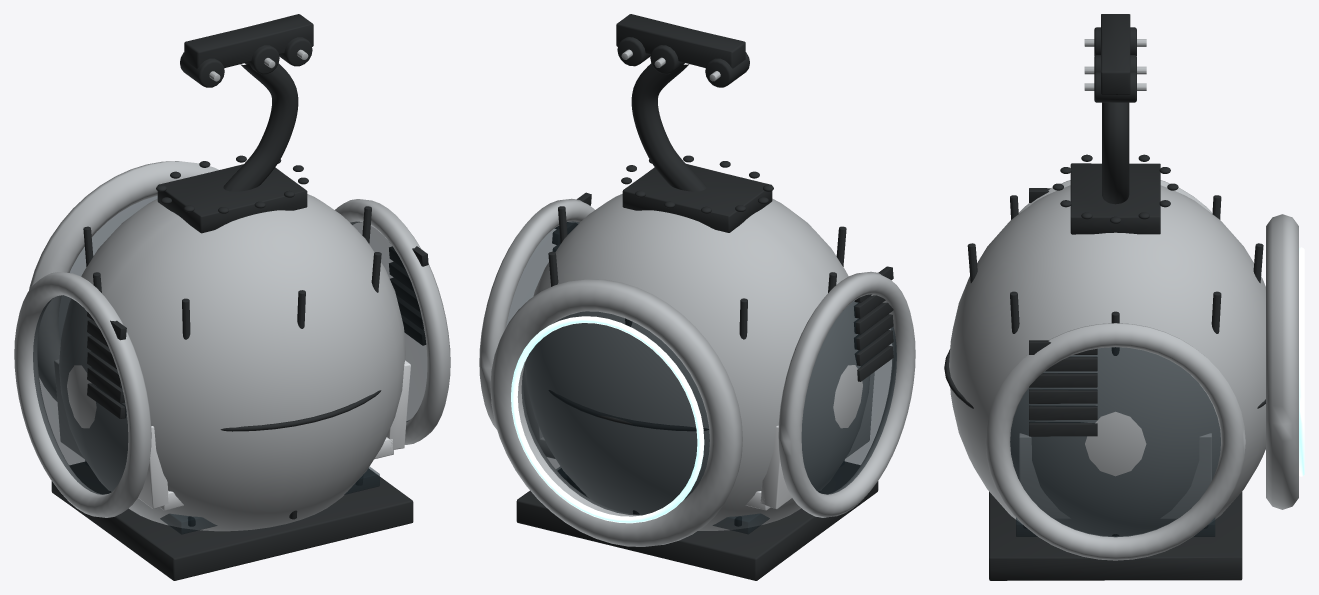
File: singapore-cable-car-skyorb-v1.glb
The picture shows the model from 3 angles, left to right: view 1: azimuth 30°, elevation 25°; view 2: azimuth 150°, elevation 25°; view 3: azimuth 270°, elevation 25°; orthographic projection. The views are drawn at different scales.
Parts seen in each view (by area): view 1: cabin-shell/orb-shell, cabin-shell/lower-skirt, window-system/side-window-ring--1, window-system/side-glazing--1, window-system/front-window-ring, window-system/side-window-ring-1, hanger-grip/roof-plate, hanger-grip/s-curved-hanger, hanger-grip/grip-beam, window-system/side-glazing-1, interior/bench-back--1, window-system/front-glazing (+8 smaller); view 2: cabin-shell/orb-shell, window-system/front-glazing, window-system/front-window-ring, window-system/side-window-ring--1, window-system/side-glazing--1, cabin-shell/lower-skirt, hanger-grip/roof-plate, window-system/side-window-ring-1, window-system/front-led-ring, hanger-grip/s-curved-hanger, hanger-grip/grip-beam, interior/bench-back--1 (+10 smaller); view 3: cabin-shell/orb-shell, window-system/side-glazing-1, window-system/side-window-ring-1, cabin-shell/lower-skirt, window-system/front-window-ring, hanger-grip/roof-plate, hanger-grip/s-curved-hanger, interior/bench-back-1, hanger-grip/grip-beam, window-system/front-led-ring, rib-louvre-system/louvre-1-2, rib-louvre-system/louvre-1-0 (+4 smaller).
Boxes of the visible parts, <box> form: cabin-shell/orb-shell: <box>59,194,405,531</box>; cabin-shell/lower-skirt: <box>51,462,413,580</box>; window-system/side-window-ring--1: <box>14,272,151,517</box>; window-system/side-glazing--1: <box>33,295,128,494</box>; window-system/front-window-ring: <box>29,161,218,400</box>; window-system/side-window-ring-1: <box>335,199,450,444</box>; hanger-grip/roof-plate: <box>157,164,307,233</box>; hanger-grip/s-curved-hanger: <box>223,63,298,191</box>; hanger-grip/grip-beam: <box>184,14,313,68</box>; window-system/side-glazing-1: <box>350,221,427,421</box>; interior/bench-back--1: <box>54,359,168,509</box>; window-system/front-glazing: <box>59,196,157,340</box>; cabin-shell/orb-shell: <box>526,194,869,530</box>; window-system/front-glazing: <box>521,311,709,515</box>; window-system/front-window-ring: <box>490,279,742,546</box>; window-system/side-window-ring--1: <box>778,271,915,517</box>; window-system/side-glazing--1: <box>801,301,896,494</box>; cabin-shell/lower-skirt: <box>516,461,878,580</box>; hanger-grip/roof-plate: <box>622,164,772,232</box>; window-system/side-window-ring-1: <box>479,198,594,429</box>; window-system/front-led-ring: <box>511,316,704,523</box>; hanger-grip/s-curved-hanger: <box>631,63,706,191</box>; hanger-grip/grip-beam: <box>616,14,745,68</box>; interior/bench-back--1: <box>760,372,874,509</box>; cabin-shell/orb-shell: <box>949,185,1265,535</box>; window-system/side-glazing-1: <box>1010,347,1220,537</box>; window-system/side-window-ring-1: <box>985,323,1245,560</box>; cabin-shell/lower-skirt: <box>989,491,1242,580</box>; window-system/front-window-ring: <box>1266,214,1298,509</box>; hanger-grip/roof-plate: <box>1070,163,1160,234</box>; hanger-grip/s-curved-hanger: <box>1102,102,1129,204</box>; interior/bench-back-1: <box>1019,433,1211,518</box>; hanger-grip/grip-beam: <box>1101,14,1130,94</box>; window-system/front-led-ring: <box>1299,247,1304,476</box>; rib-louvre-system/louvre-1-2: <box>1029,389,1097,403</box>; rib-louvre-system/louvre-1-0: <box>1029,422,1097,436</box>.
Bounding box in the file's own units: 2.32 × 3.42 × 2.2.
